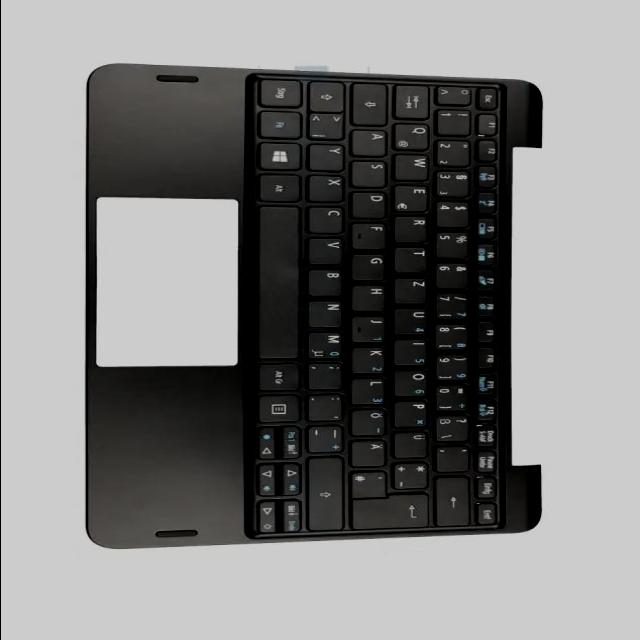0: (435, 383, 471, 411)
1: (435, 108, 473, 136)
2: (436, 139, 472, 167)
3: (435, 169, 473, 197)
4: (435, 200, 471, 227)
5: (435, 231, 471, 258)
6: (435, 261, 471, 288)
7: (435, 292, 471, 319)
8: (435, 322, 469, 349)
9: (435, 352, 471, 379)
a: (351, 129, 389, 157)
accent: (435, 444, 471, 472)
ae: (350, 438, 388, 466)
alt-left: (259, 174, 303, 202)
altgr-right: (258, 362, 302, 390)
b: (308, 268, 344, 296)
c: (308, 205, 346, 234)
caret: (435, 84, 473, 105)
comma: (306, 361, 346, 389)
d: (351, 190, 389, 218)
del: (436, 474, 472, 525)
e: (394, 184, 430, 212)
enter: (352, 491, 430, 529)
f: (350, 222, 388, 249)
g: (352, 252, 388, 280)
h: (350, 283, 388, 311)
hash: (351, 469, 389, 497)
i: (393, 338, 429, 365)
j: (350, 315, 388, 342)
k: (351, 345, 387, 373)
keyboard: (244, 71, 508, 541)
l: (350, 377, 388, 404)
less: (308, 112, 346, 140)
m: (306, 330, 346, 358)
minus: (307, 423, 345, 452)
n: (306, 299, 344, 327)
o: (394, 369, 430, 396)
oe: (350, 408, 388, 436)
p: (393, 399, 431, 427)
plus: (393, 460, 431, 489)
point: (307, 393, 345, 421)
q: (394, 122, 432, 150)
r: (394, 215, 430, 242)
s: (351, 159, 389, 186)
shift-left: (309, 80, 347, 111)
shift-lock: (352, 82, 390, 126)
shift-right: (308, 455, 346, 530)
space: (258, 206, 302, 358)
ss: (435, 413, 471, 441)
strg-left: (258, 79, 304, 107)
t: (394, 246, 430, 273)
tab: (395, 84, 431, 120)
u: (392, 307, 430, 335)
ue: (393, 430, 431, 458)
v: (308, 237, 344, 265)
w: (395, 153, 431, 181)
x: (308, 174, 346, 202)
y: (308, 143, 346, 171)
z: (394, 276, 430, 304)
